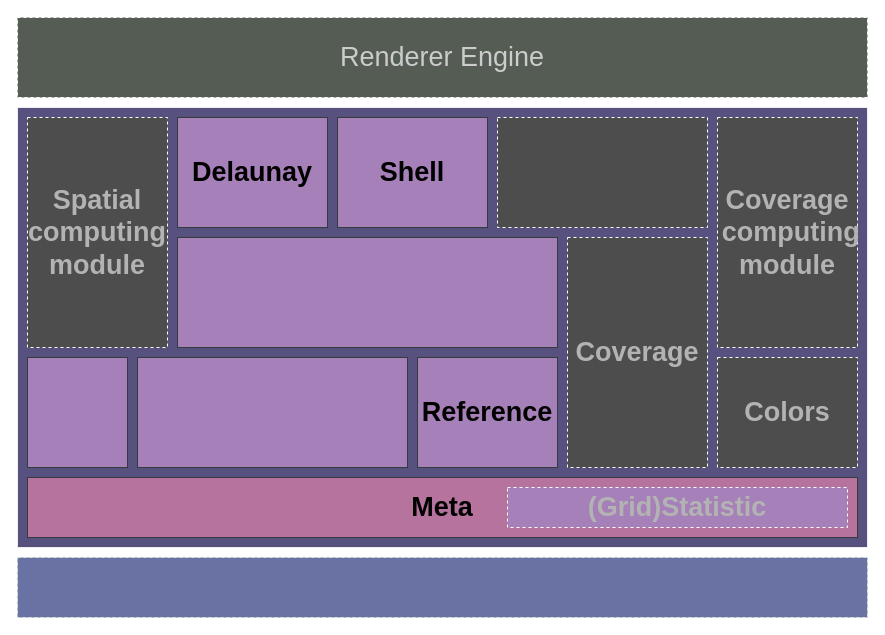
This 885x635 diagram has some shape labels left out. The centre of each missing label's shape, as x and y in pixels:
Data I/O Module: point (442, 587)
Geometry: point (272, 412)
Measuration: point (367, 292)
Net: point (602, 172)
Unit: point (77, 412)
